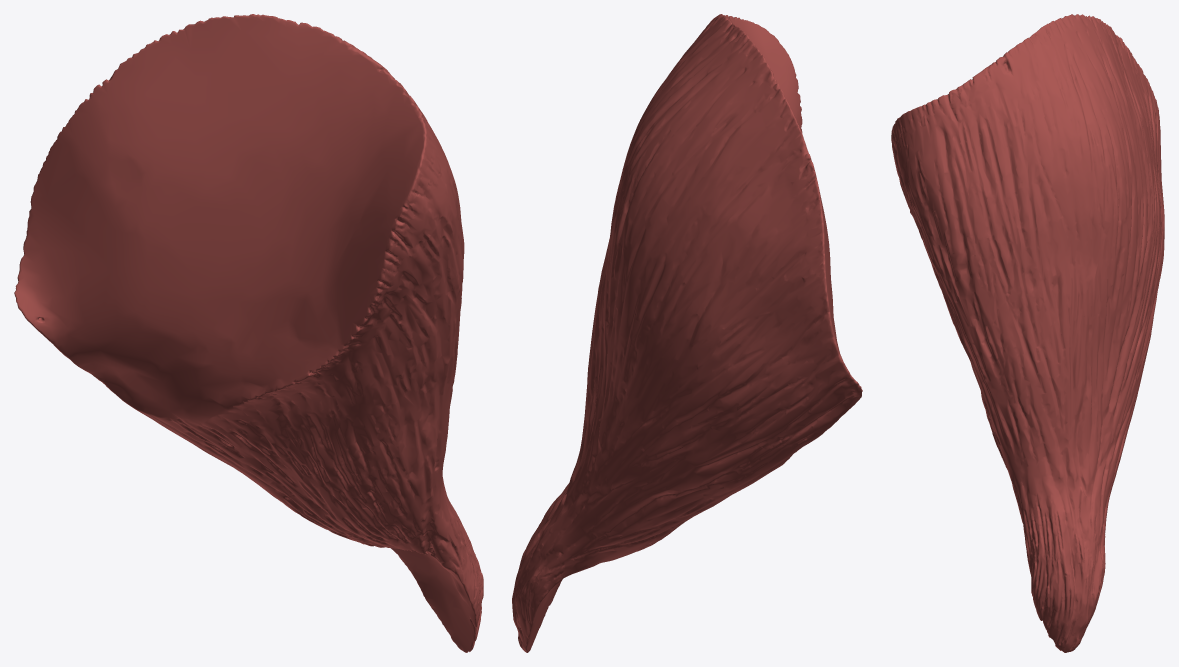
File: FMA22333.glb
3 views of the same model, side by side, from view 1: azimuth 30°, elevation 25°; view 2: azimuth 150°, elevation 25°; view 3: azimuth 270°, elevation 25° (orthographic). The views are drawn at different scales.
Parts seen in each view (by area): view 1: FMA22333; view 2: FMA22333; view 3: FMA22333.
Part boxes in pixels (x1,y1,x2,y2): FMA22333: (14,14,483,652); FMA22333: (512,14,862,652); FMA22333: (891,14,1164,652).
Bounding box in the file's own units: 0.0802 × 0.13 × 0.0588.
